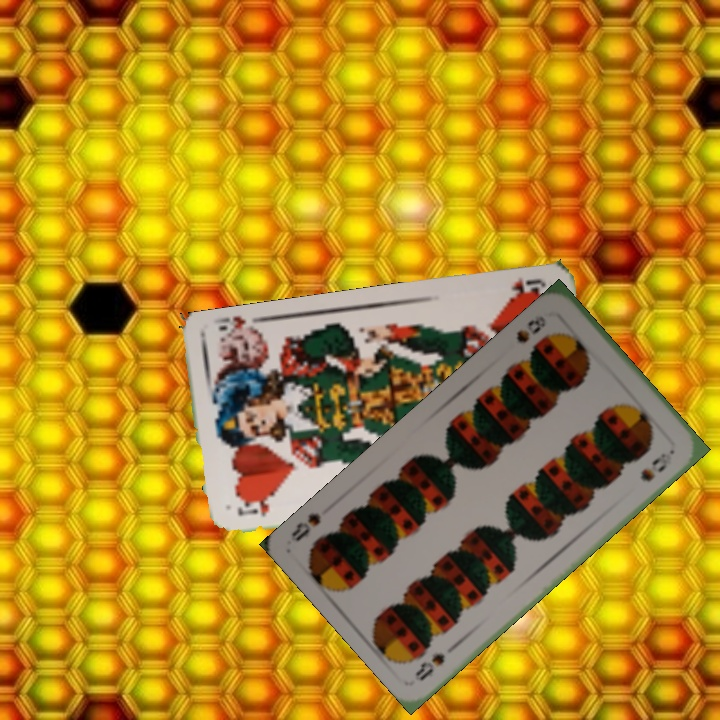HO: (504, 274, 548, 301), (233, 496, 272, 520)
S8: (512, 311, 549, 346), (411, 649, 447, 684)
